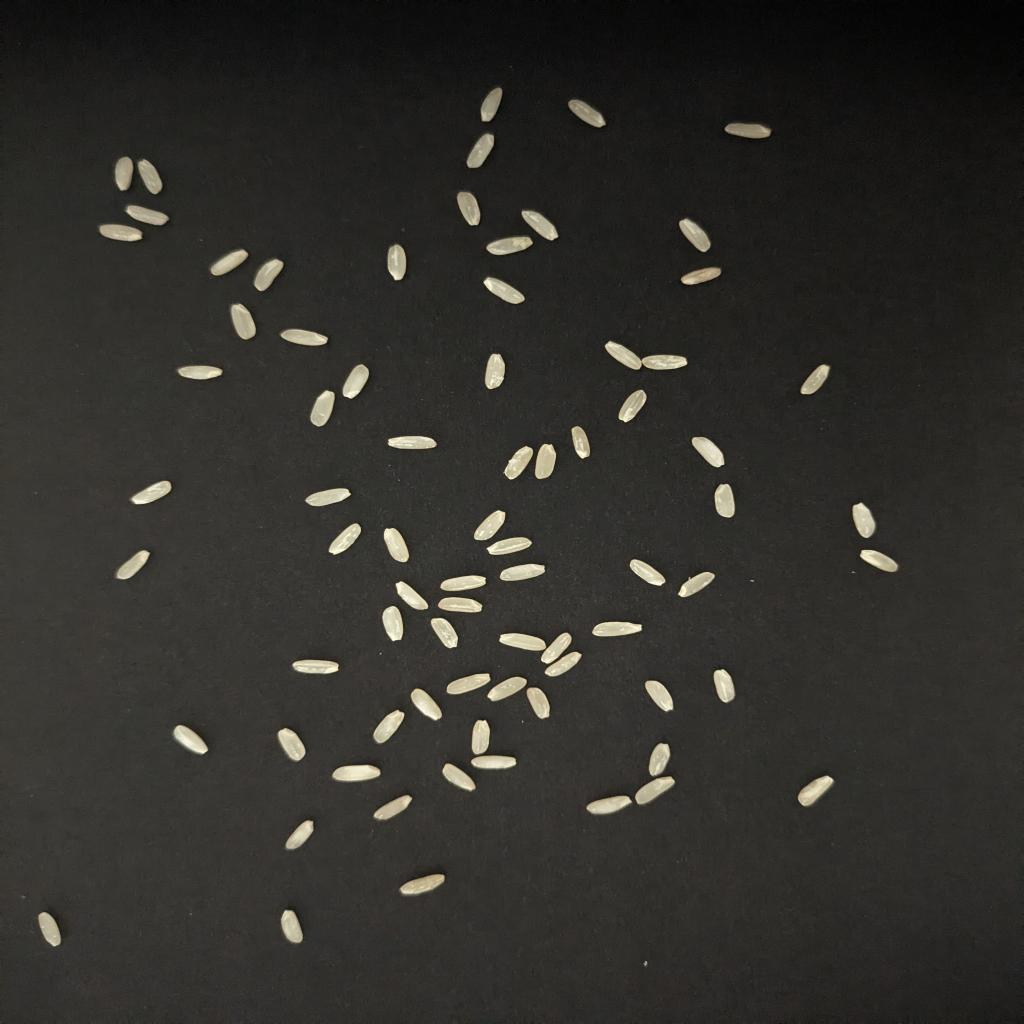good-rice: (796, 776, 834, 806), (634, 776, 674, 804), (522, 210, 559, 240), (679, 218, 711, 252), (373, 710, 405, 744), (567, 100, 605, 128), (485, 278, 525, 304), (487, 676, 527, 702), (373, 794, 413, 820), (605, 342, 642, 370), (541, 632, 573, 664), (410, 688, 442, 720), (115, 550, 149, 580), (328, 524, 362, 554), (503, 446, 533, 480), (131, 480, 173, 504), (693, 436, 724, 468), (400, 874, 445, 896), (210, 250, 248, 276), (679, 572, 717, 598), (466, 134, 495, 168), (253, 258, 282, 292), (277, 728, 306, 762), (173, 726, 208, 754), (229, 304, 256, 340), (309, 390, 336, 426), (629, 560, 666, 586), (474, 510, 506, 540), (125, 204, 168, 226), (618, 390, 647, 422), (645, 680, 674, 712), (487, 236, 533, 256), (487, 536, 533, 556), (543, 652, 581, 676), (442, 764, 477, 790), (397, 582, 429, 610), (136, 160, 162, 194), (344, 364, 370, 398), (384, 528, 410, 562), (802, 364, 831, 394), (285, 820, 314, 850), (280, 328, 328, 346), (852, 502, 876, 538), (439, 574, 487, 592), (381, 606, 405, 642), (333, 764, 381, 782), (447, 674, 490, 694), (860, 550, 898, 572), (306, 488, 352, 506), (479, 88, 503, 122), (591, 622, 642, 638), (280, 910, 304, 944), (37, 912, 61, 946), (99, 224, 144, 242), (501, 564, 546, 582), (501, 632, 546, 650), (586, 796, 631, 814), (386, 244, 408, 280), (432, 618, 458, 648), (724, 122, 772, 138), (647, 744, 671, 776), (485, 354, 506, 390), (535, 444, 557, 478), (682, 268, 722, 286), (642, 354, 687, 370), (527, 688, 551, 718), (458, 192, 479, 226), (714, 484, 735, 518), (389, 436, 437, 450), (570, 426, 591, 458), (714, 670, 735, 702), (471, 720, 490, 754), (471, 756, 517, 770), (293, 660, 338, 674), (115, 156, 133, 190), (178, 366, 221, 380), (439, 598, 482, 612)
